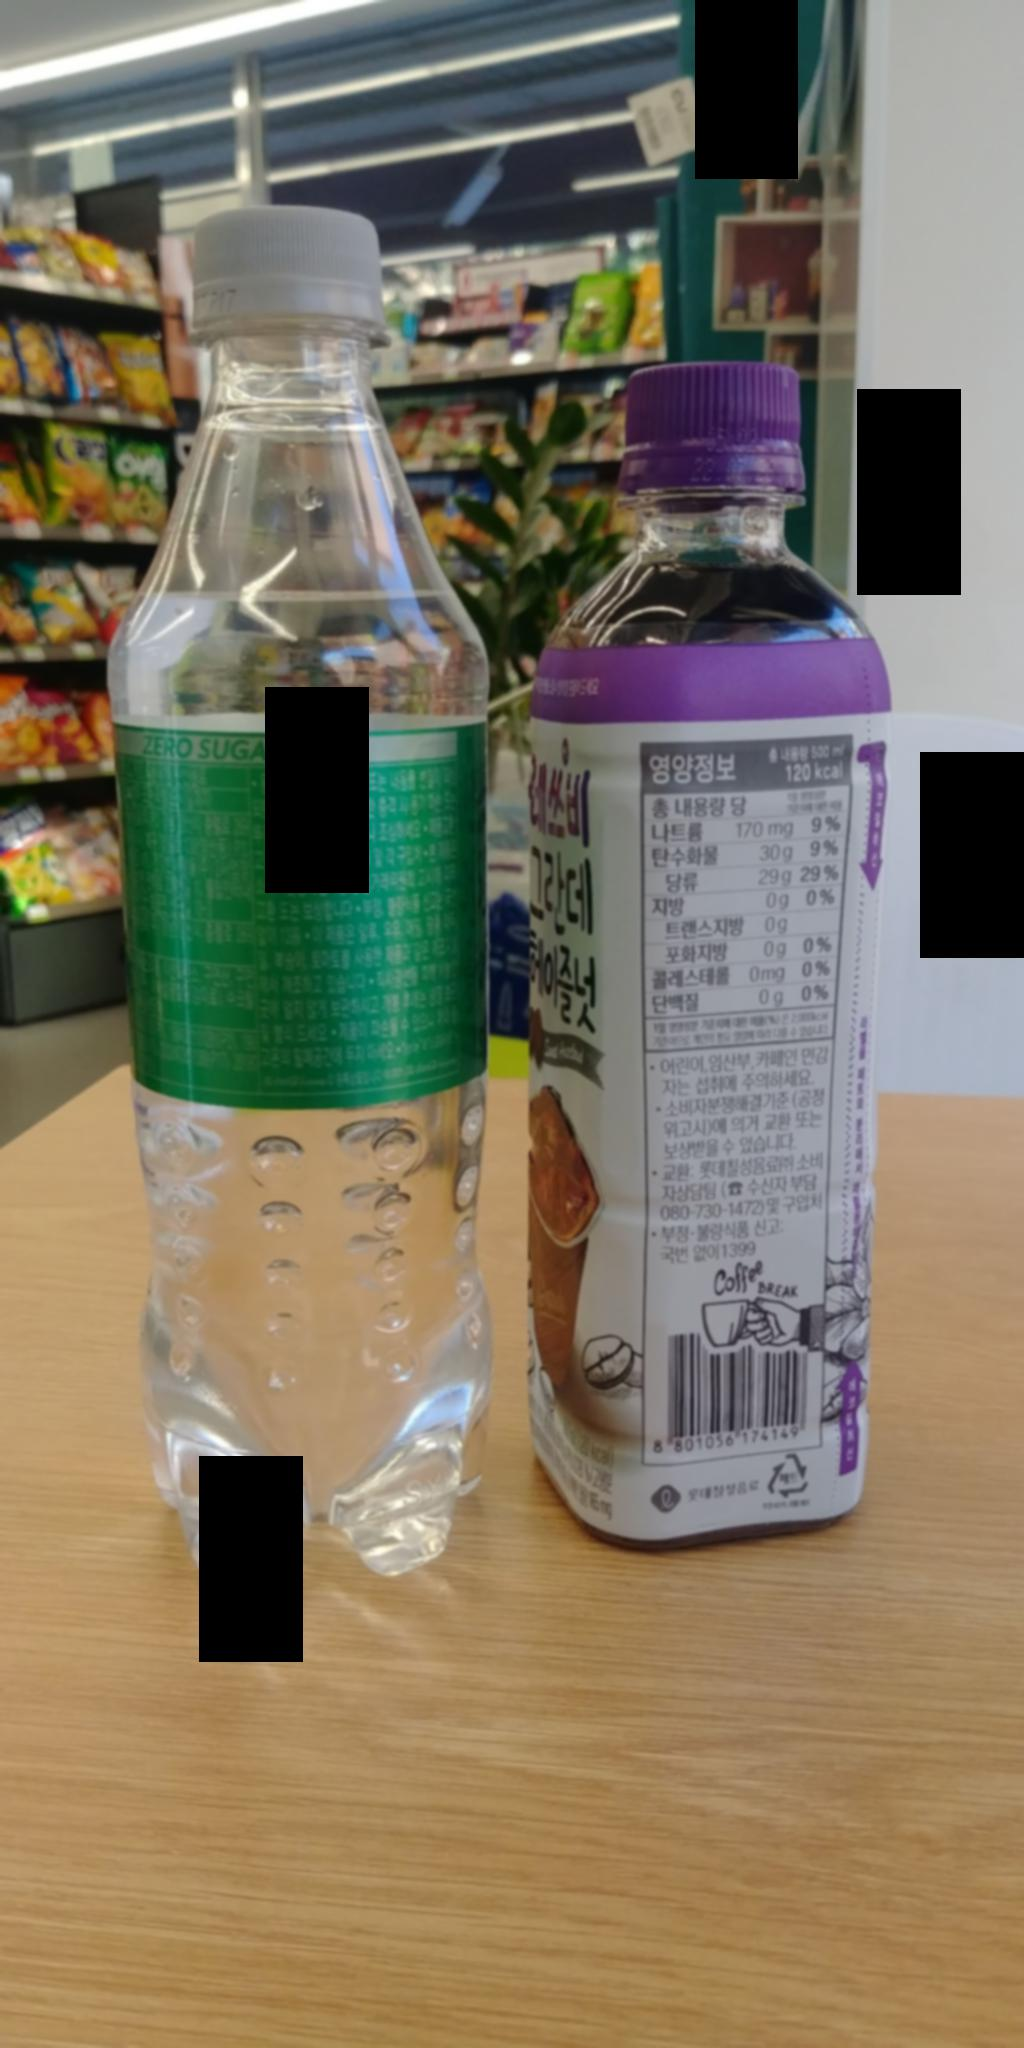letsbe_grande_hazelnut: (499, 354, 939, 1580)
sprite_zero: (119, 162, 504, 1617)
